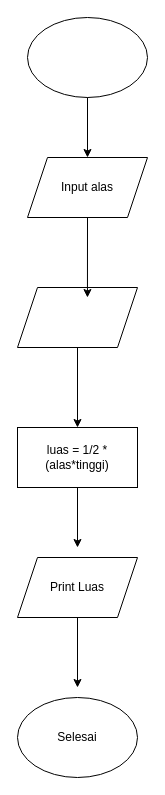
This 165x795 diagram has some shape labels left out. The box of each missing label's shape, as (x1, y1, x2, y2) in pixels:
Input tinggi: (16, 286, 138, 348)
Mulai: (26, 16, 148, 98)
